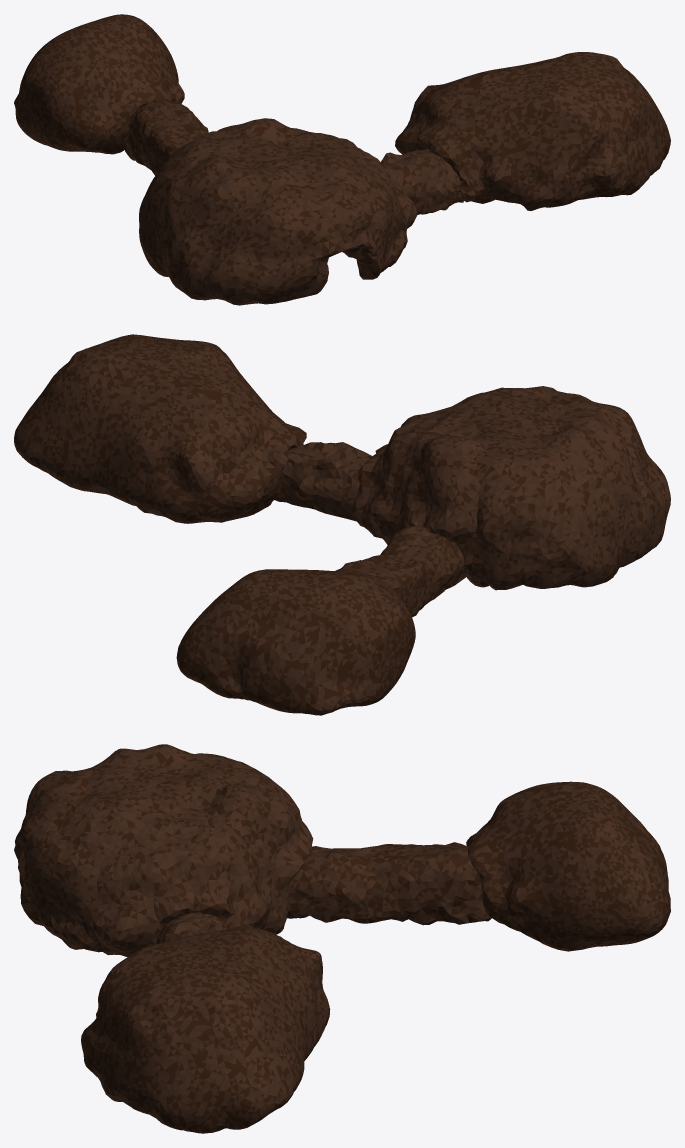
File: caves.fbx
3 views of the same model, one above another, from view 1: azimuth 30°, elevation 25°; view 2: azimuth 150°, elevation 25°; view 3: azimuth 270°, elevation 25° (orthographic). The views are drawn at different scales.
Parts seen in each view (by area): view 1: Room_3, Room_1_Long, Room_1_Short, Connector_Long, Connector_Short; view 2: Room_3, Room_1_Long, Room_1_Short, Connector_Long, Connector_Short; view 3: Room_3, Room_1_Long, Room_1_Short, Connector_Long, Connector_Short.
Part boxes in pixels (x1,y1,x2,y2): Room_3: (139,118,417,305); Room_1_Long: (395,52,670,210); Room_1_Short: (14,14,184,154); Connector_Long: (125,100,208,175); Connector_Short: (381,149,463,214); Room_3: (351,386,670,590); Room_1_Long: (14,334,306,523); Room_1_Short: (176,569,415,715); Connector_Long: (335,525,467,617); Connector_Short: (274,442,371,521); Room_3: (14,744,313,956); Room_1_Long: (81,925,330,1133); Room_1_Short: (466,781,670,951); Connector_Long: (287,842,491,925); Connector_Short: (156,912,227,943).
Size of the model in its own units: 10914 by 2401 by 10409.
